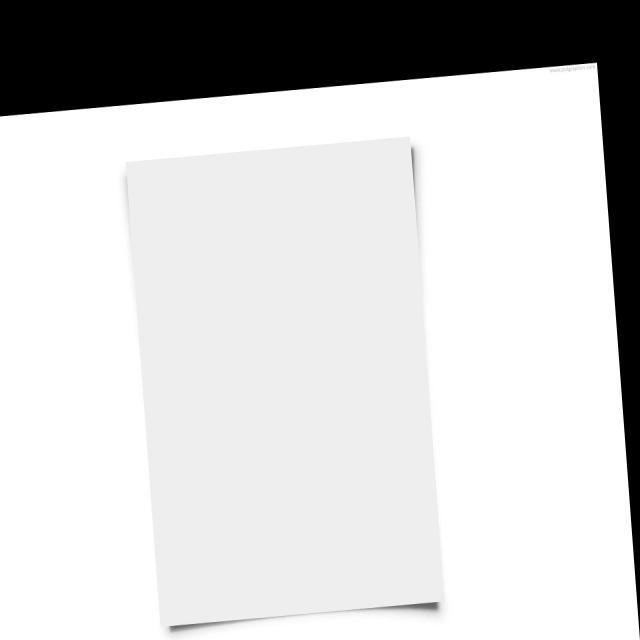cups: (123, 135, 444, 629)
